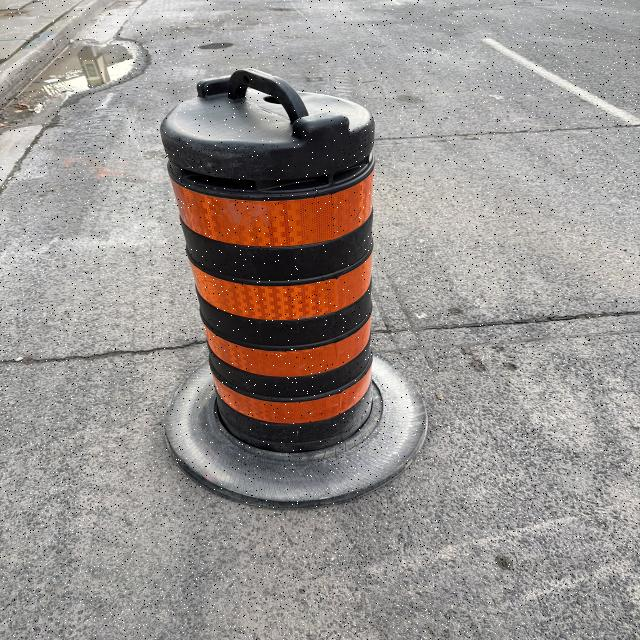Teraffic Barrel: (161, 69, 425, 506)
